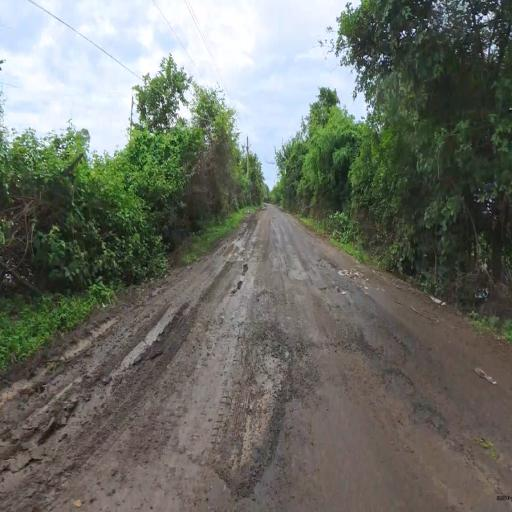pothole: (180, 287, 468, 499)
